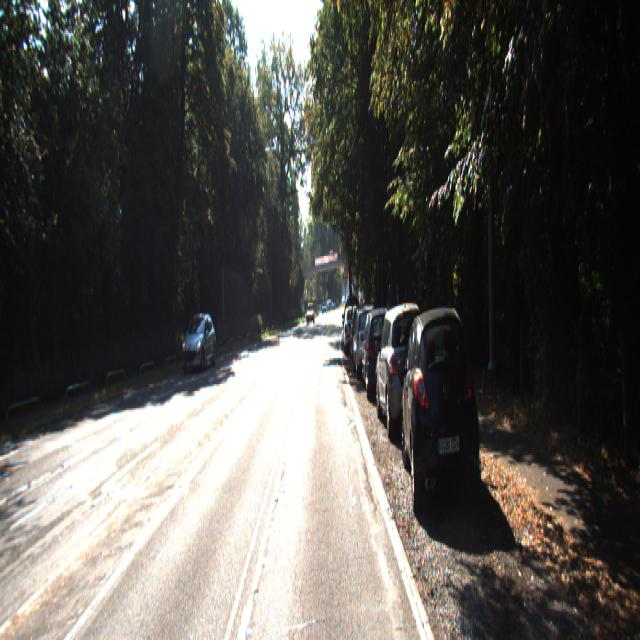Car: (400, 302, 484, 521), (374, 300, 434, 439), (361, 304, 397, 397), (180, 308, 217, 368), (352, 304, 382, 378), (343, 306, 361, 356)
